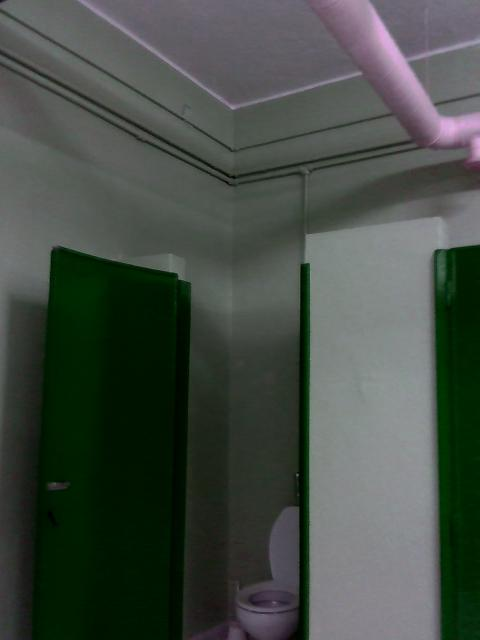open_door: (164, 261, 312, 639)
